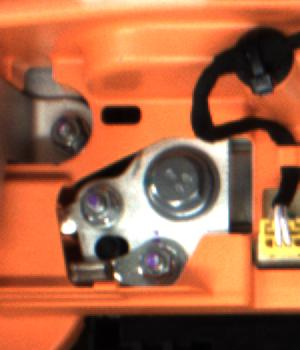nut_b: (141, 146, 229, 225)
